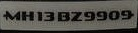character: (4, 9, 20, 21), (56, 10, 70, 22), (119, 8, 133, 19), (70, 10, 82, 22), (21, 10, 34, 21), (43, 10, 54, 22), (82, 10, 94, 21), (107, 9, 119, 20), (96, 10, 107, 20), (36, 10, 43, 22)
